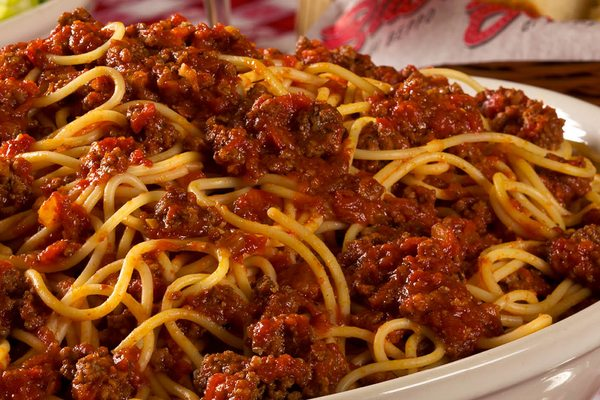sushi: (2, 18, 599, 392)
